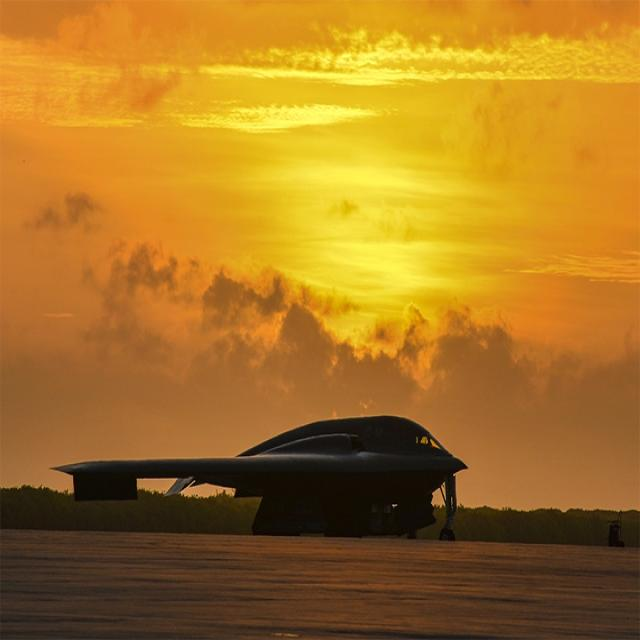MIL_Plane: (47, 415, 467, 542)
